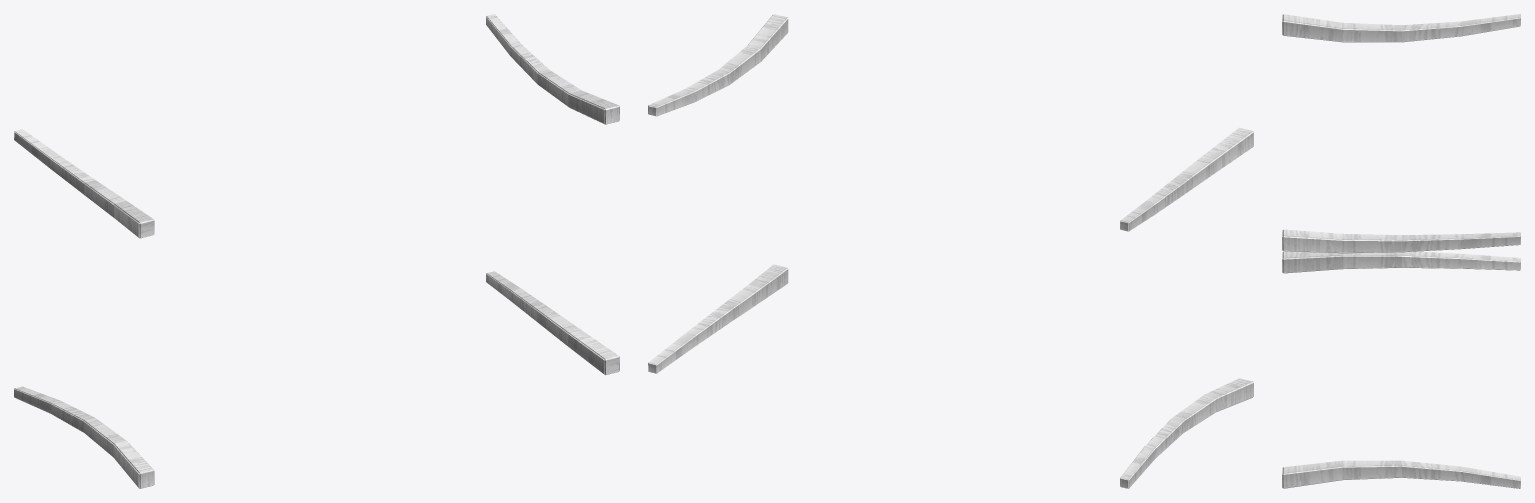
Rendered from Fp315_Cube_1727Desk_315_0_GeomSubset_1.obj.
3 renders of one model, left to right at view 1: azimuth 30°, elevation 25°; view 2: azimuth 150°, elevation 25°; view 3: azimuth 270°, elevation 25°, orthographic. The views are drawn at different scales.
Parts seen in each view (by area): view 1: Fp315_Cube_1727Desk_315_0_GeomSubset_1; view 2: Fp315_Cube_1727Desk_315_0_GeomSubset_1; view 3: Fp315_Cube_1727Desk_315_0_GeomSubset_1.
Boxes of the visible parts, left/top/right/bottom form: Fp315_Cube_1727Desk_315_0_GeomSubset_1: left=14, top=14, right=619, bottom=488; Fp315_Cube_1727Desk_315_0_GeomSubset_1: left=648, top=14, right=1253, bottom=488; Fp315_Cube_1727Desk_315_0_GeomSubset_1: left=1282, top=14, right=1520, bottom=488.
Bounding box in the file's own units: 1.66 × 0.8819 × 0.7538.
